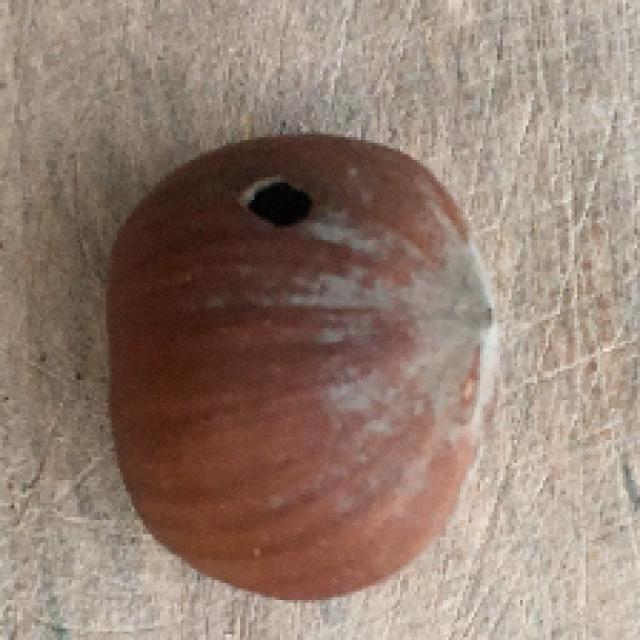DamagedHazelnut: (106, 135, 502, 604)
